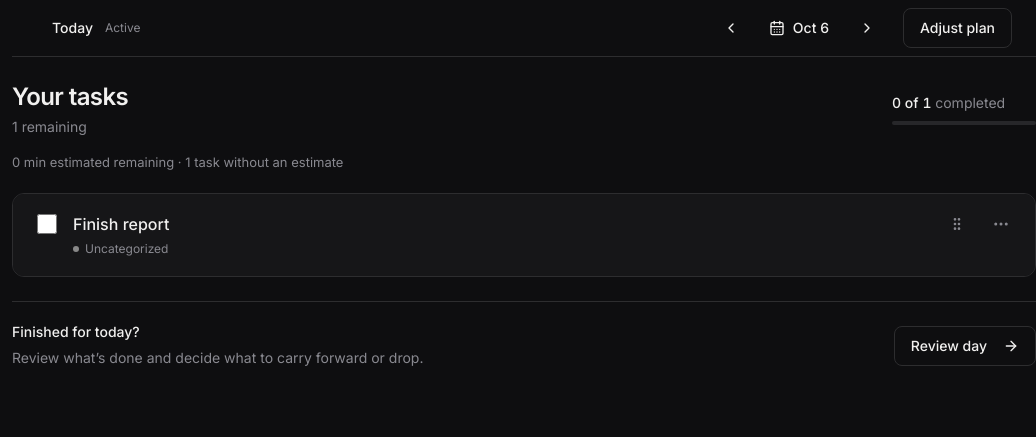
Scenario: Daily planning workflow › keeps completion failure visible after restoring the task to its previous list
Click the checkbox named "Mark Finish report complete" at [47, 224], box [37,214,57,234]
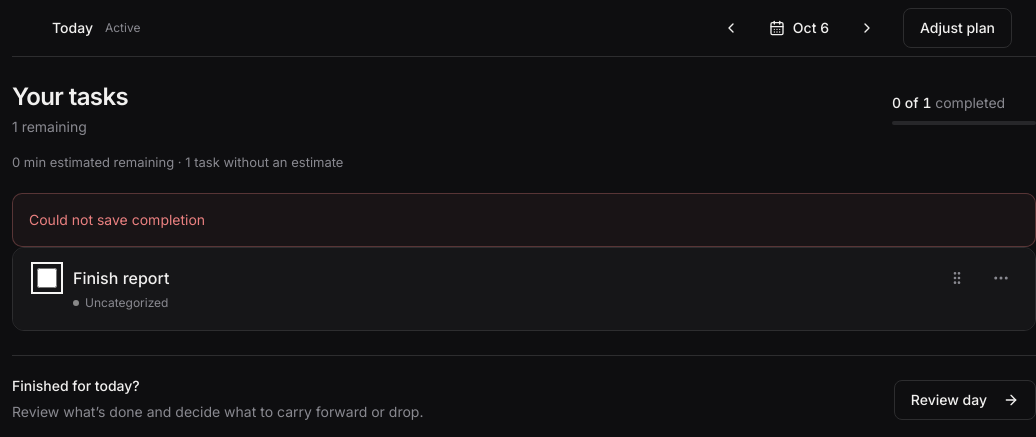
Check: the checkbox named "Mark Finish report complete" is not checked, box [37,268,57,288]
Check: the message reads "Could not save completion", box [29,210,205,228]
